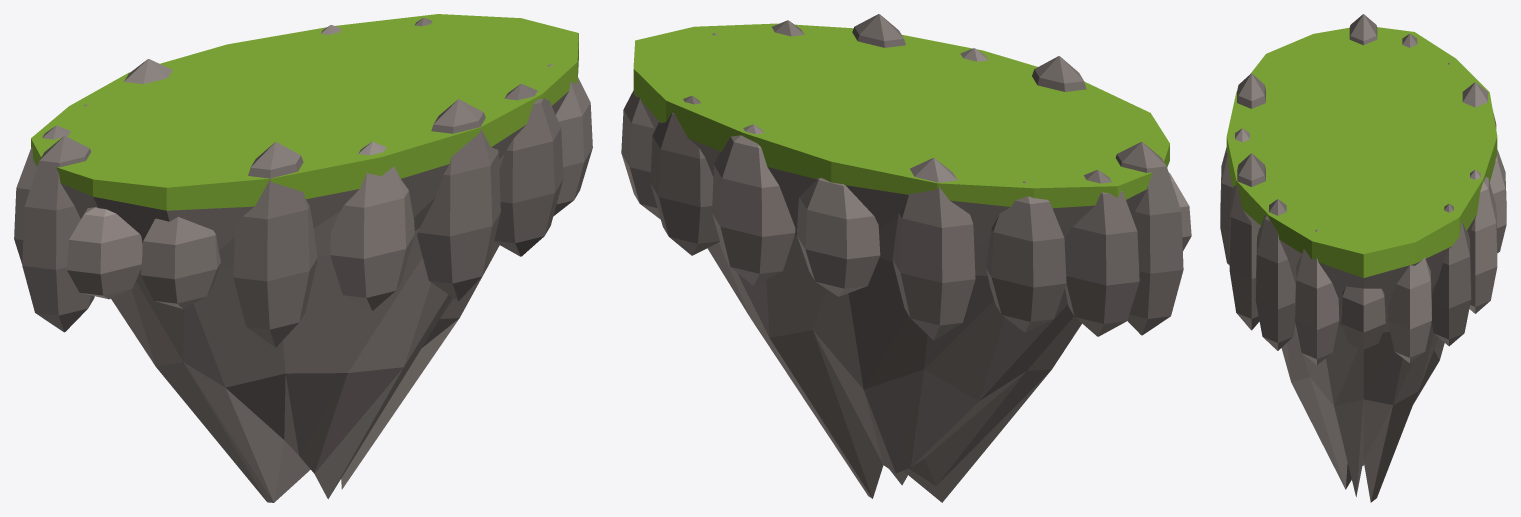
File: Horizon.glb
3 views of the same model, side by side, from view 1: azimuth 30°, elevation 25°; view 2: azimuth 150°, elevation 25°; view 3: azimuth 270°, elevation 25° (orthographic). The views are drawn at different scales.
Parts seen in each view (by area): view 1: Horizon; view 2: Horizon; view 3: Horizon.
Part boxes in pixels (left/top/right/bottom): Horizon: left=14, top=14, right=592, bottom=502; Horizon: left=621, top=14, right=1191, bottom=502; Horizon: left=1220, top=14, right=1506, bottom=502.
Bounding box in the file's own units: 8.29 × 6.02 × 4.16.
